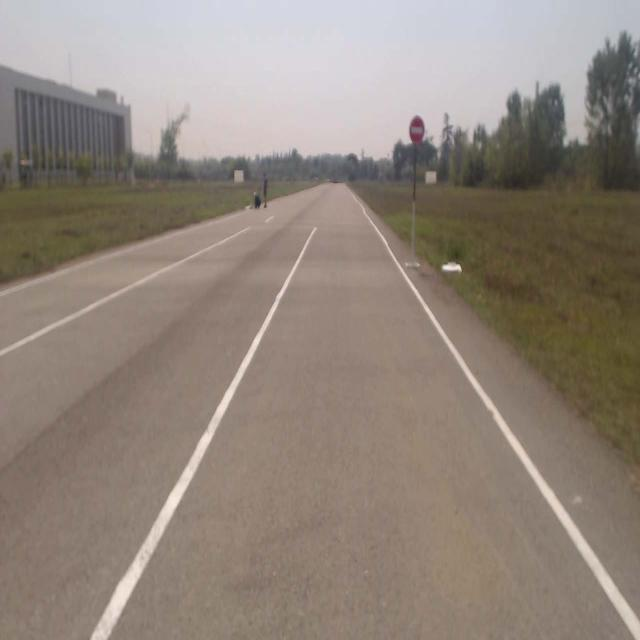girisyok: (410, 115, 424, 142)
